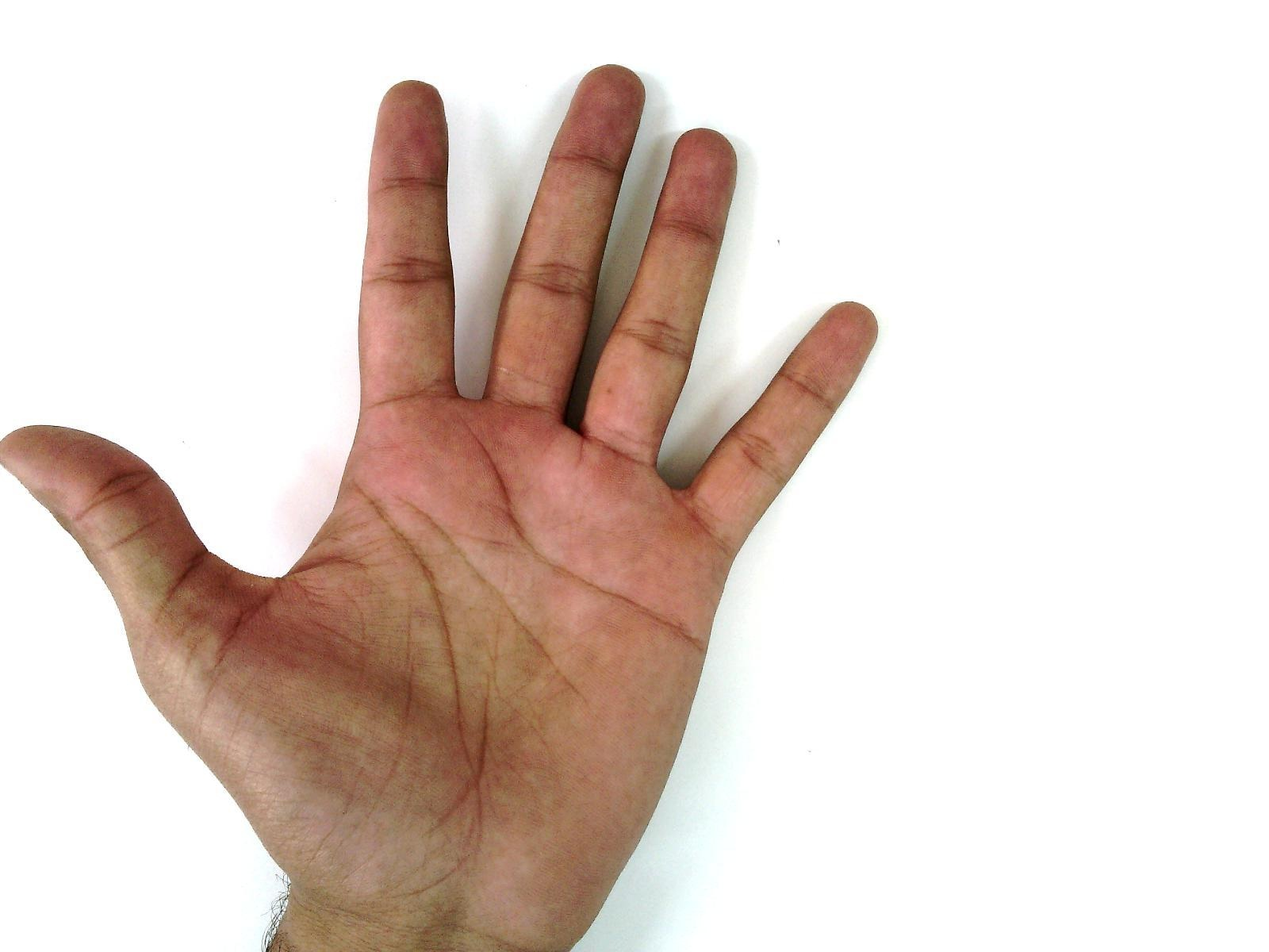open_palm: (4, 63, 882, 950)
